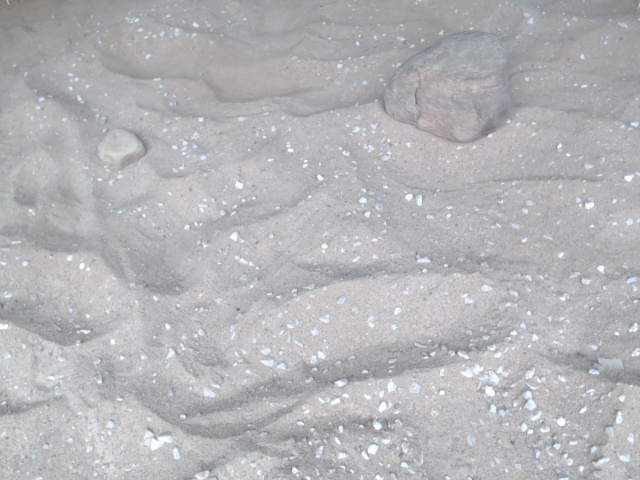rock: (378, 27, 519, 149), (92, 124, 151, 173)
